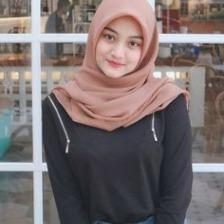Non Syar-i: (54, 1, 190, 128)
